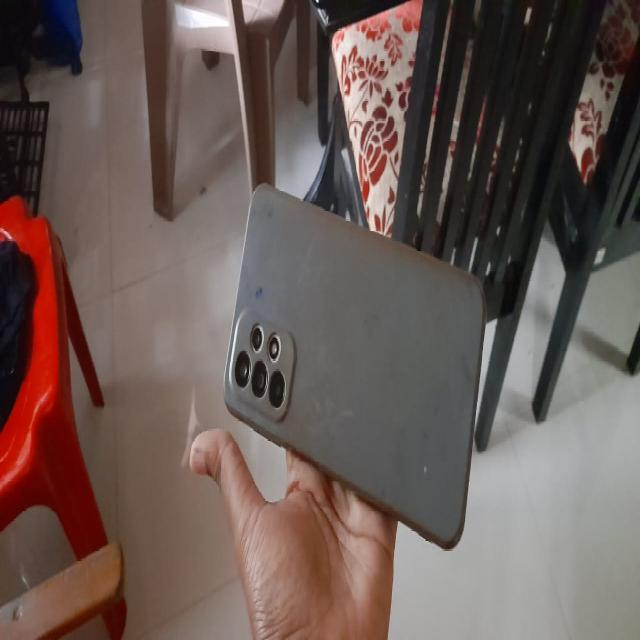Mobile - Recyclable: (217, 173, 487, 556)
